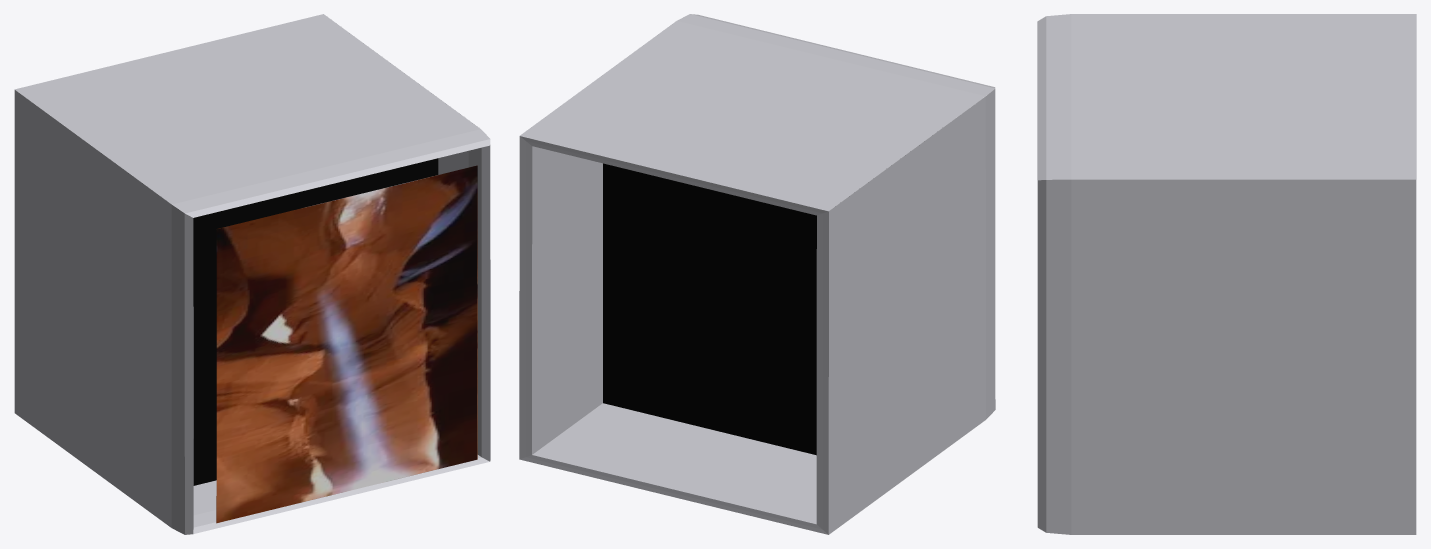
File: sh-contrib-antelope-canyon-frame.glb
The picture shows the model from 3 angles, left to right: view 1: azimuth 30°, elevation 25°; view 2: azimuth 150°, elevation 25°; view 3: azimuth 270°, elevation 25°; orthographic projection. The views are drawn at different scales.
Parts seen in each view (by area): view 1: MetalFrame_Cylinder_Aluminium, Photo_Cube_Material_AntelopeCanyon.jpg, Frame_Black_Material.001; view 2: MetalFrame_Cylinder_Aluminium, Frame_Black_Material.001; view 3: MetalFrame_Cylinder_Aluminium.
Part boxes in pixels (left/top/right/bottom): MetalFrame_Cylinder_Aluminium: left=14, top=14, right=490, bottom=534; Photo_Cube_Material_AntelopeCanyon.jpg: left=216, top=165, right=477, bottom=523; Frame_Black_Material.001: left=193, top=158, right=438, bottom=485; MetalFrame_Cylinder_Aluminium: left=519, top=14, right=995, bottom=534; Frame_Black_Material.001: left=603, top=163, right=816, bottom=455; MetalFrame_Cylinder_Aluminium: left=1037, top=14, right=1416, bottom=534.
Size of the model in its own units: 1 by 1 by 1.
Materials: 3 (1 with a texture image).
